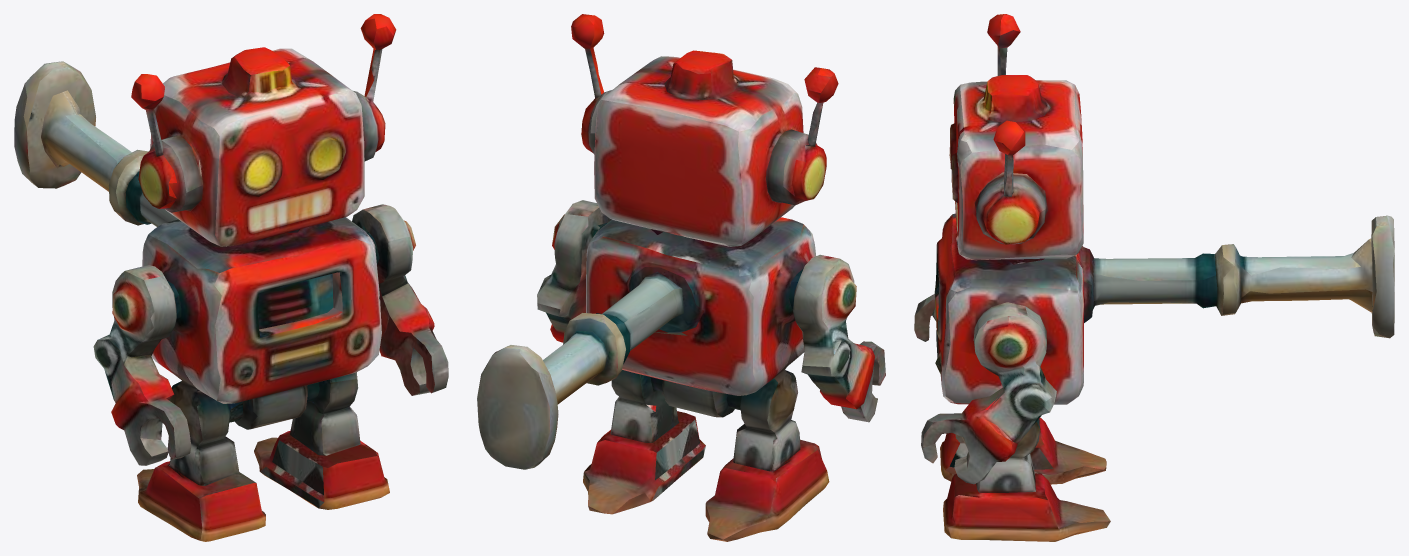
The model's file is toy.glb.
The picture shows the model from 3 angles, left to right: view 1: azimuth 30°, elevation 25°; view 2: azimuth 150°, elevation 25°; view 3: azimuth 270°, elevation 25°; orthographic projection. The views are drawn at different scales.
Parts seen in each view (by area): view 1: item_toy; view 2: item_toy; view 3: item_toy.
Boxes of the visible parts, left/top/right/bottom form: item_toy: left=14, top=14, right=448, bottom=541; item_toy: left=477, top=14, right=885, bottom=541; item_toy: left=914, top=14, right=1394, bottom=541.
Size of the model in its own units: 0.7069 by 0.9898 by 1.
1 material, 1 textured.
